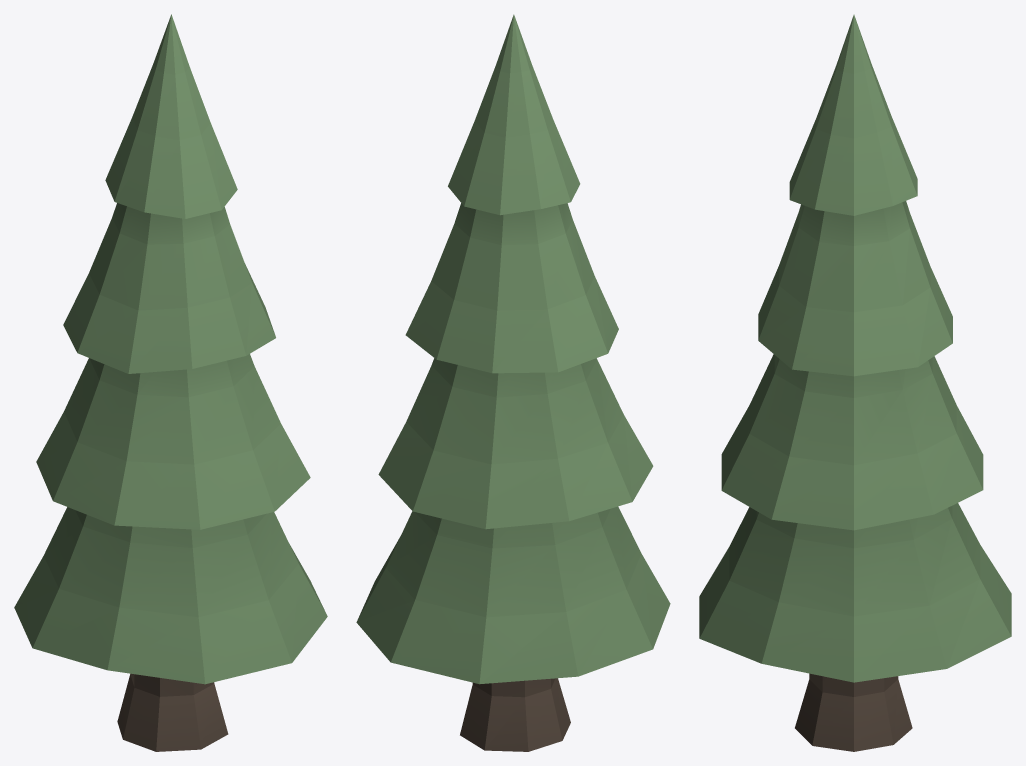
Rendered from pine.glb.
The picture shows the model from 3 angles, left to right: view 1: azimuth 30°, elevation 25°; view 2: azimuth 150°, elevation 25°; view 3: azimuth 270°, elevation 25°; orthographic projection.
Visible parts, largest first — view 1: pine.001; view 2: pine.001; view 3: pine.001.
Part boxes in pixels (left/top/right/bottom): pine.001: left=14, top=14, right=327, bottom=751; pine.001: left=356, top=14, right=670, bottom=751; pine.001: left=699, top=14, right=1011, bottom=751.
Size of the model in its own units: 3.67 by 9 by 3.56.
